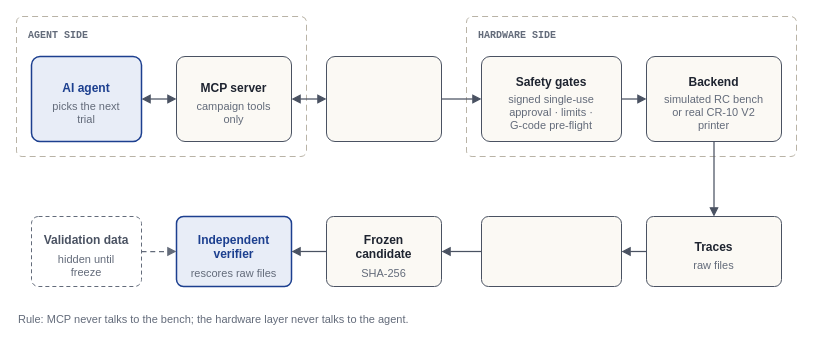
Image size: 813x347. Some labels were removed from this diagram. The shapes that lost their labels are listed below. From the top down, each one's centre as x and y in pixels, then its label:
At (x=384, y=99): "Services / executor".
At (x=551, y=251): "Fit model".
